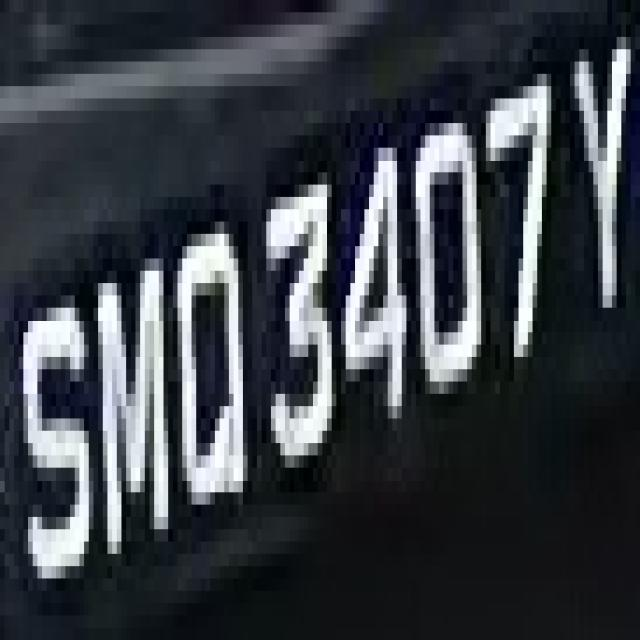0: (402, 99, 481, 418)
3: (243, 148, 336, 492)
4: (327, 111, 420, 455)
7: (481, 49, 565, 394)
M: (89, 221, 178, 554)
Q: (168, 197, 252, 517)
S: (14, 259, 89, 603)
Y: (556, 25, 635, 357)
